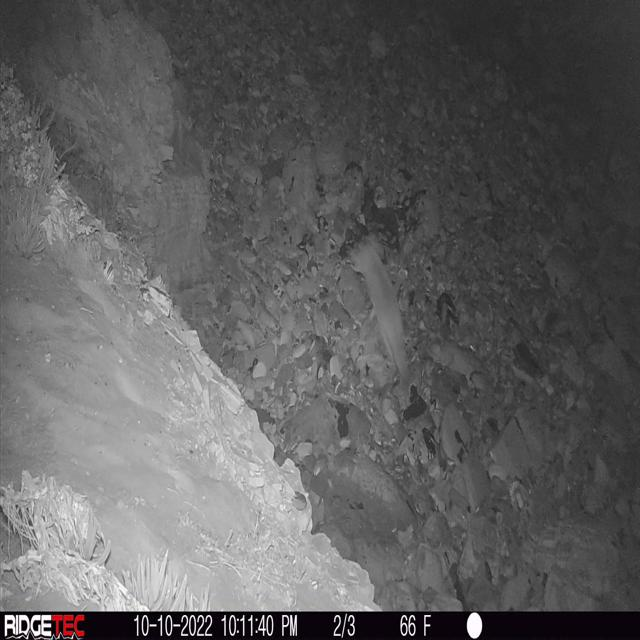coyote: (350, 241, 411, 385)
